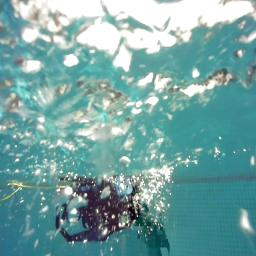front: (55, 177, 139, 242)
